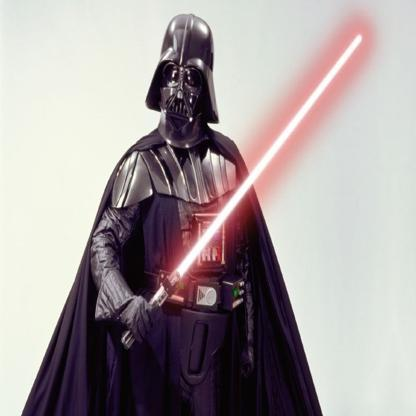lightsaber: (119, 34, 365, 351)
